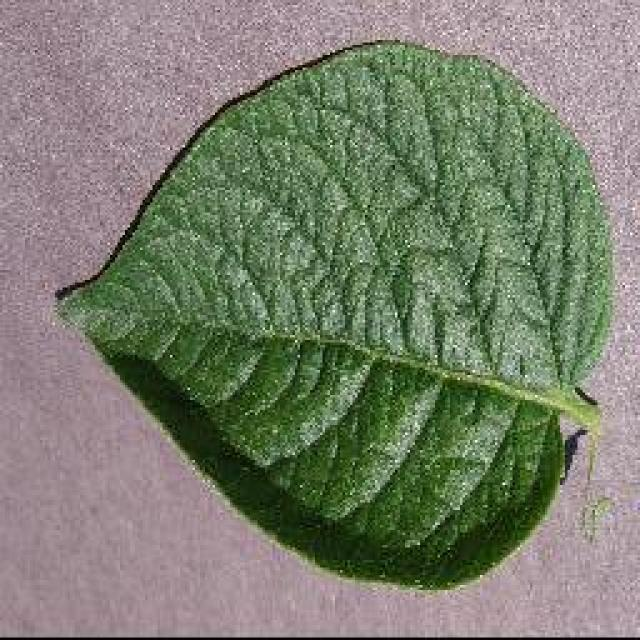Potato___healthy: (52, 36, 614, 600)
